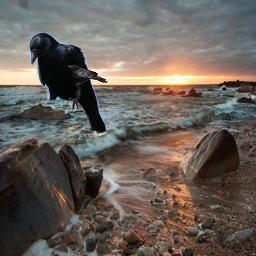Crow: (28, 32, 107, 138), (67, 65, 108, 86)
